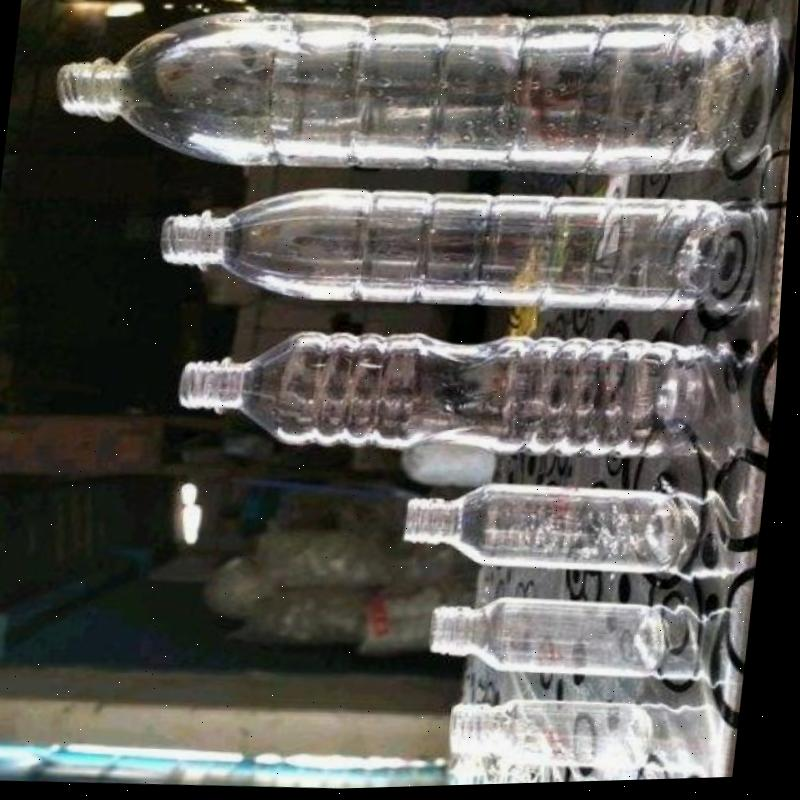botella: (51, 0, 759, 200), (157, 171, 735, 329), (175, 314, 712, 471)
